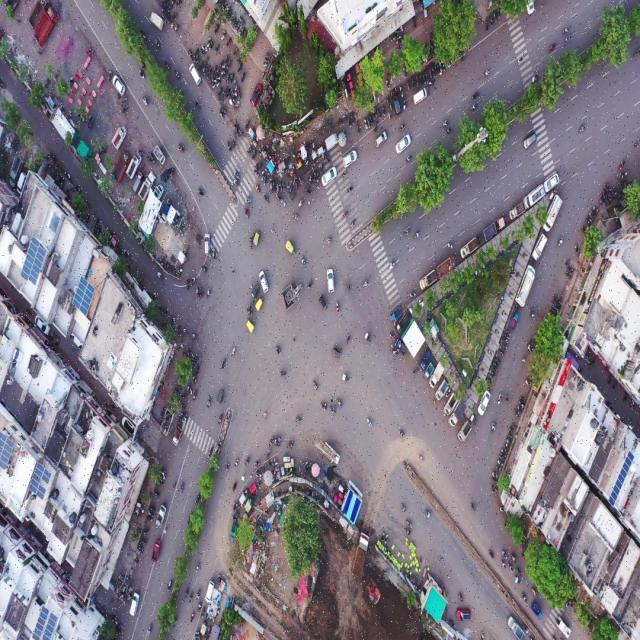3W: (215, 385, 226, 407), (316, 292, 328, 312), (284, 238, 296, 257), (254, 296, 267, 312), (247, 283, 260, 299), (253, 228, 261, 251), (331, 346, 343, 360), (245, 317, 255, 332)
Cars: (521, 127, 537, 154), (531, 234, 547, 258), (395, 132, 411, 154), (250, 80, 264, 105), (478, 389, 490, 418), (544, 171, 559, 193), (341, 148, 357, 168), (258, 269, 270, 295), (190, 61, 202, 87), (321, 167, 337, 186), (112, 74, 127, 94), (391, 90, 402, 116), (205, 578, 216, 603), (412, 88, 428, 105), (326, 266, 336, 293), (455, 607, 472, 621), (375, 130, 388, 147), (204, 232, 211, 257)
LCV: (516, 264, 538, 308), (542, 195, 562, 233), (435, 254, 456, 279), (524, 184, 544, 209), (110, 125, 128, 149), (508, 615, 524, 640), (459, 238, 478, 259), (430, 361, 444, 389), (152, 143, 168, 166), (127, 152, 141, 178), (419, 269, 437, 289), (434, 378, 448, 402), (508, 201, 525, 220), (394, 313, 408, 335), (150, 10, 166, 29), (155, 503, 167, 528), (324, 131, 339, 151), (151, 538, 163, 562), (458, 420, 471, 442), (444, 394, 457, 415), (418, 349, 431, 370), (129, 589, 139, 616), (171, 425, 183, 447), (510, 312, 520, 332), (390, 306, 401, 321), (396, 340, 407, 355), (424, 363, 434, 378)
M2W: (466, 497, 479, 515), (139, 92, 151, 109), (324, 231, 335, 249), (222, 458, 233, 476), (190, 561, 203, 576), (197, 183, 207, 202), (365, 414, 375, 433), (204, 394, 214, 413), (481, 64, 491, 82), (193, 96, 203, 114), (312, 376, 322, 394), (178, 482, 190, 497), (232, 450, 242, 468), (216, 410, 227, 426), (469, 85, 479, 102), (578, 120, 588, 136), (515, 54, 525, 70), (228, 346, 238, 362), (294, 411, 304, 427), (389, 258, 400, 272), (219, 357, 228, 374), (548, 42, 560, 54), (172, 66, 181, 82), (277, 368, 289, 380), (320, 396, 328, 414), (208, 443, 216, 461), (137, 66, 146, 82), (527, 306, 536, 322), (440, 114, 451, 127), (398, 502, 409, 515), (342, 281, 352, 295), (340, 208, 350, 222), (275, 342, 283, 359), (246, 299, 254, 316), (205, 283, 213, 300), (177, 142, 186, 157), (153, 37, 162, 52), (413, 228, 423, 241), (162, 61, 172, 74), (187, 610, 197, 623), (499, 548, 509, 561), (403, 225, 411, 241), (424, 507, 432, 523), (195, 586, 203, 602), (305, 280, 314, 294), (361, 278, 371, 290), (298, 254, 308, 266), (404, 518, 414, 530), (345, 182, 354, 195), (398, 430, 407, 443), (145, 622, 154, 635), (330, 402, 337, 418), (496, 392, 504, 406), (520, 591, 528, 604), (562, 257, 570, 270), (292, 212, 302, 222), (529, 74, 539, 84), (469, 101, 478, 112), (573, 243, 580, 257), (341, 372, 349, 384), (548, 306, 560, 314), (263, 194, 270, 207), (243, 207, 250, 220), (557, 235, 564, 248), (499, 559, 506, 572), (490, 421, 497, 434), (504, 393, 511, 406), (296, 198, 305, 208), (211, 246, 217, 261), (404, 154, 415, 162), (562, 24, 570, 35), (200, 262, 208, 273), (344, 333, 352, 344), (183, 586, 189, 600), (226, 140, 233, 152), (192, 388, 198, 402), (232, 479, 238, 493), (334, 298, 340, 312), (246, 145, 253, 157), (244, 196, 253, 205), (563, 33, 572, 42), (487, 550, 496, 559), (499, 342, 508, 351), (336, 397, 344, 407), (398, 122, 406, 132), (458, 590, 463, 606), (530, 588, 538, 598), (514, 567, 522, 577), (510, 553, 518, 563), (188, 591, 194, 604), (222, 29, 228, 42), (196, 601, 202, 614), (365, 332, 372, 343), (244, 119, 251, 130), (166, 578, 172, 590), (255, 183, 261, 195), (195, 492, 201, 504), (172, 616, 178, 628), (298, 175, 304, 187), (214, 23, 220, 35), (217, 86, 223, 98), (550, 294, 556, 306), (107, 68, 112, 82), (234, 170, 241, 180), (513, 574, 520, 584), (404, 526, 411, 536), (138, 537, 148, 544), (428, 78, 435, 88), (513, 409, 520, 419), (402, 98, 407, 112), (350, 218, 356, 229), (238, 62, 244, 73), (226, 37, 232, 48), (377, 108, 382, 121), (524, 379, 532, 387), (231, 177, 238, 186), (444, 128, 453, 135), (389, 332, 396, 341), (409, 289, 416, 298), (121, 104, 128, 113), (493, 356, 502, 363), (251, 150, 257, 160), (240, 72, 246, 82), (233, 46, 238, 58), (193, 47, 199, 57), (212, 64, 217, 76), (347, 116, 352, 128), (412, 367, 418, 377), (269, 436, 275, 446), (153, 490, 160, 498), (142, 529, 150, 536), (254, 162, 259, 173), (201, 606, 206, 617), (489, 15, 494, 26), (214, 44, 220, 53), (564, 271, 570, 280), (316, 170, 320, 183), (320, 160, 324, 173), (351, 113, 355, 126), (288, 186, 293, 196), (287, 179, 292, 189), (206, 37, 211, 47), (178, 412, 183, 422), (373, 122, 378, 132), (477, 233, 482, 243), (201, 44, 208, 51), (199, 49, 206, 56), (181, 394, 188, 401), (146, 517, 153, 524), (491, 471, 498, 478), (492, 362, 499, 369), (418, 454, 424, 462), (507, 563, 513, 571), (342, 170, 348, 178), (295, 180, 299, 192), (263, 174, 267, 186), (237, 86, 241, 98), (234, 79, 238, 91), (230, 73, 234, 85), (212, 79, 216, 91), (208, 68, 212, 80), (148, 510, 154, 518), (386, 78, 390, 90), (382, 105, 386, 117), (399, 86, 403, 98), (491, 479, 499, 485), (494, 466, 502, 472), (493, 12, 497, 24), (439, 61, 443, 73), (291, 192, 295, 203), (272, 181, 276, 192), (269, 182, 273, 193), (221, 63, 225, 74), (356, 125, 360, 136), (179, 401, 185, 408), (501, 448, 508, 454), (498, 350, 505, 356), (518, 402, 525, 408), (567, 265, 573, 272), (209, 40, 213, 50), (226, 73, 230, 83), (217, 77, 221, 87), (203, 62, 207, 72), (364, 120, 368, 130), (428, 68, 432, 78), (314, 169, 317, 182), (226, 53, 229, 66), (386, 95, 389, 108), (434, 63, 437, 76), (485, 20, 488, 33), (436, 61, 439, 74), (274, 433, 277, 446), (392, 350, 398, 356), (279, 182, 282, 194), (276, 182, 279, 194), (228, 60, 232, 69), (374, 106, 377, 118), (367, 116, 370, 128), (407, 80, 410, 92), (423, 74, 426, 86), (504, 439, 511, 444), (370, 114, 373, 125), (411, 77, 414, 88), (498, 460, 503, 466), (498, 456, 504, 461), (282, 182, 285, 191), (262, 170, 264, 182), (416, 75, 418, 87), (420, 74, 422, 86), (432, 66, 434, 76)
Truck: (27, 6, 57, 54), (351, 532, 369, 582), (111, 148, 130, 183)
